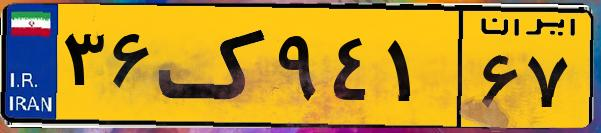1: (385, 28, 445, 110)
3: (57, 26, 110, 100)
4: (330, 28, 385, 110)
6: (475, 38, 525, 113), (110, 28, 158, 98)
7: (525, 38, 570, 115)
9: (270, 28, 330, 110)
ک: (158, 12, 270, 120)
